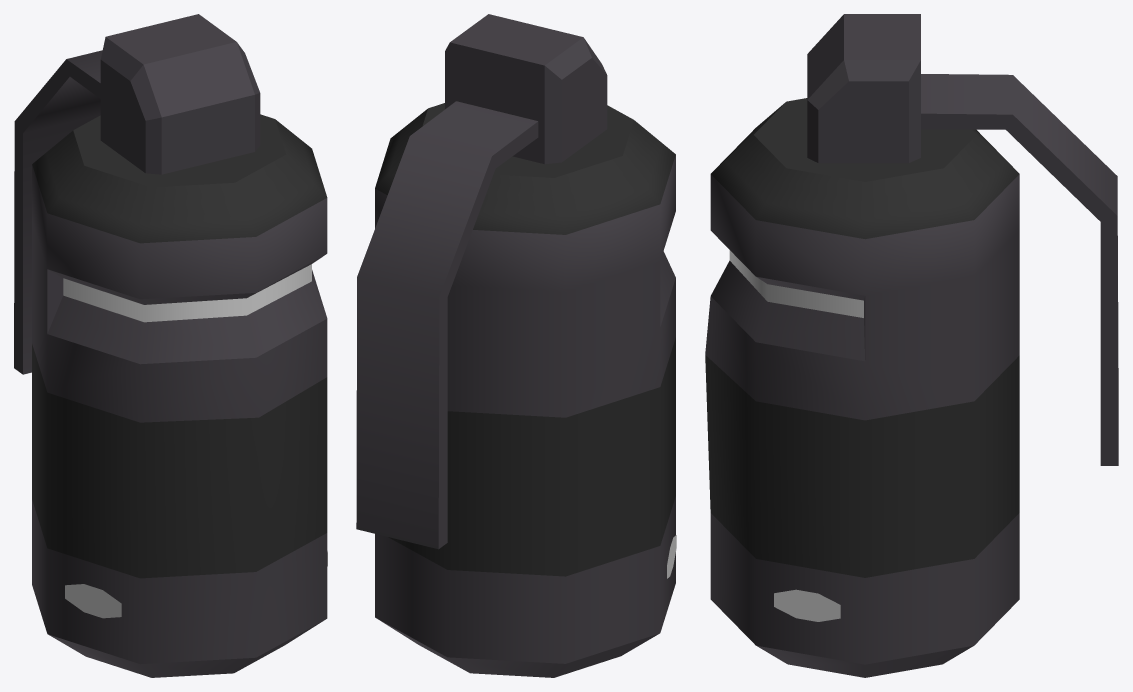
Rendered from flashbang.fbx.
3 views of the same model, side by side, from view 1: azimuth 30°, elevation 25°; view 2: azimuth 150°, elevation 25°; view 3: azimuth 270°, elevation 25° (orthographic).
Parts seen in each view (by area): view 1: Flashbang; view 2: Flashbang; view 3: Flashbang.
Boxes of the visible parts, x1,y1,x2,y2 form: Flashbang: [14, 14, 327, 677]; Flashbang: [356, 14, 676, 677]; Flashbang: [705, 14, 1118, 677].
Bounding box in the file's own units: 0.1355 × 0.2877 × 0.1814.
